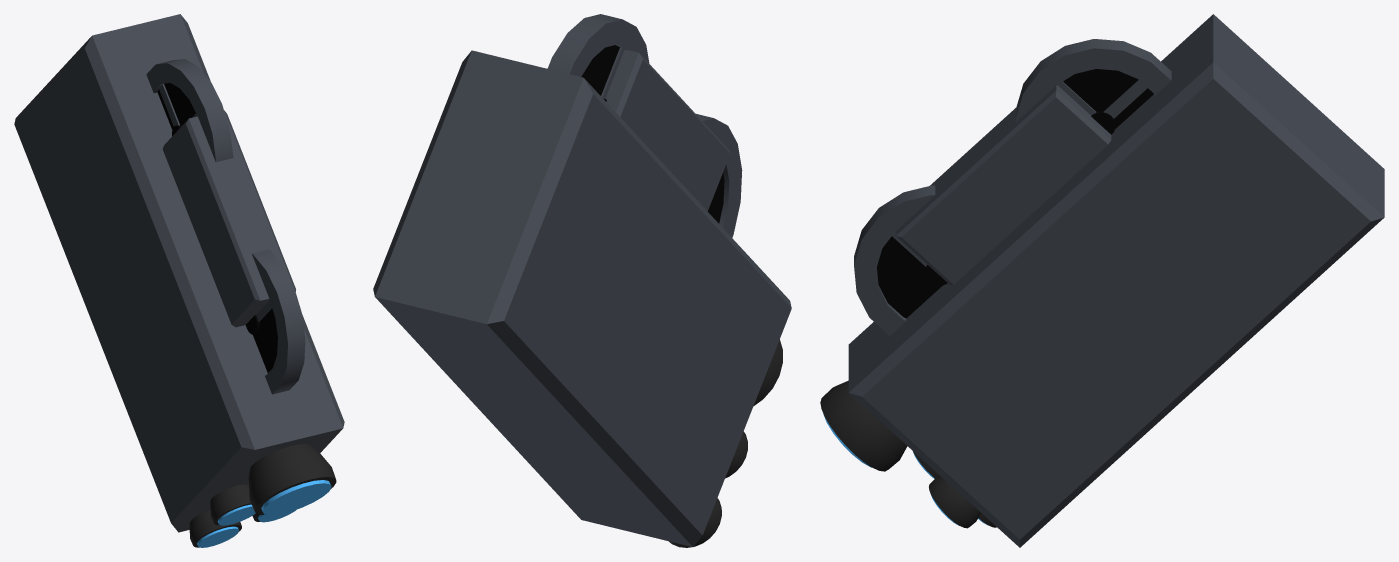
File: cAMbUFFv1.fbx
The picture shows the model from 3 angles, left to right: view 1: azimuth 30°, elevation 25°; view 2: azimuth 150°, elevation 25°; view 3: azimuth 270°, elevation 25°; orthographic projection. The views are drawn at different scales.
Visible parts, largest first — view 1: CamBase001, Box019, Tube003, Tube004, Lens018, Lens017, Reel004, Lens012, Reel003, Lens016, Lens015, Lens011; view 2: CamBase001, Box019, Tube004, Tube003, Reel003, Lens018, Lens016; view 3: CamBase001, Box019, Tube004, Tube003, Lens018, Reel004, Reel003, Lens014.
Boxes of the visible parts, x1,y1,x2,y2 form: CamBase001: (14,14,344,532); Box019: (162,110,295,327); Tube003: (252,249,305,394); Tube004: (146,59,233,161); Lens018: (248,444,336,514); Lens017: (261,480,331,515); Reel004: (253,308,277,372); Lens012: (210,484,251,525); Reel003: (157,83,195,129); Lens016: (189,510,241,547); Lens015: (197,526,238,547); Lens011: (217,504,255,525); CamBase001: (373,50,791,546); Box019: (605,49,730,211); Tube004: (547,14,649,76); Tube003: (696,114,742,237); Reel003: (581,45,619,95); Lens018: (753,339,782,406); Lens016: (669,498,721,547); CamBase001: (848,14,1384,547); Box019: (895,85,1111,285); Tube004: (1015,39,1171,121); Tube003: (854,185,935,335); Lens018: (820,380,907,471); Reel004: (877,236,942,318); Reel003: (1063,69,1153,128); Lens014: (929,476,980,528).
Bounding box in the file's own units: 2.73 × 11.25 × 11.54.
